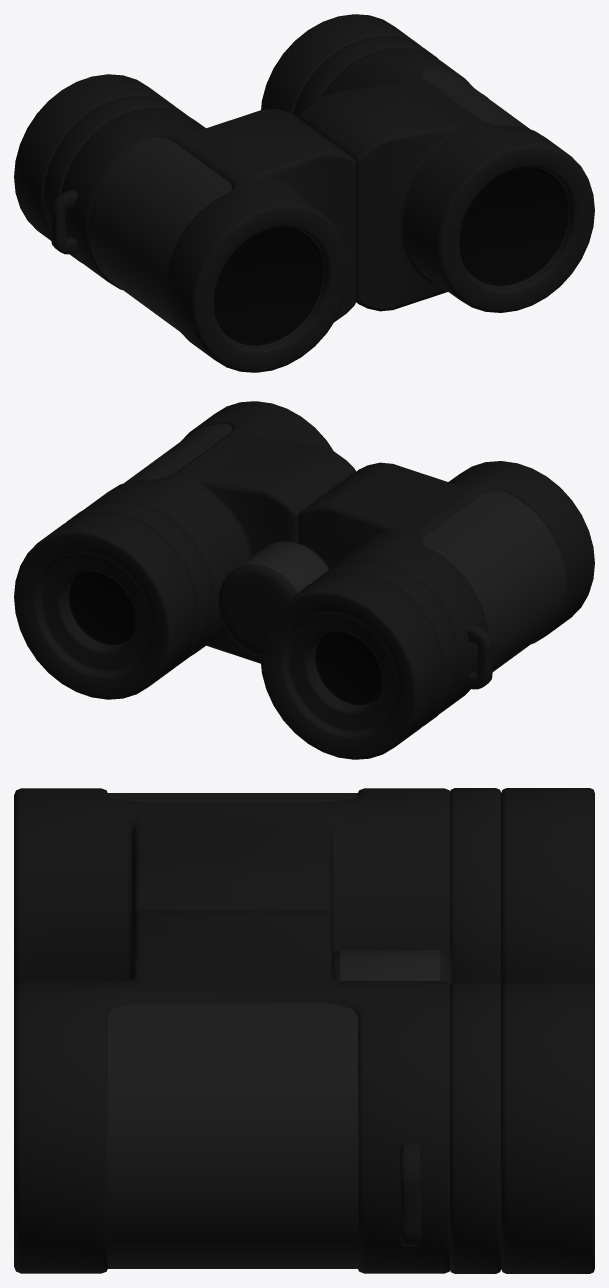
Rendered from binocular.obj.
3 renders of one model, top to bottom at view 1: azimuth 30°, elevation 25°; view 2: azimuth 150°, elevation 25°; view 3: azimuth 270°, elevation 25°, orthographic. The views are drawn at different scales.
Visible parts, largest first — view 1: Binoculars; view 2: Binoculars; view 3: Binoculars.
Boxes of the visible parts, x1=… form: Binoculars: x1=14, y1=14, x2=594, y2=372; Binoculars: x1=14, y1=401, x2=594, y2=759; Binoculars: x1=14, y1=788, x2=594, y2=1273.
Bounding box in the file's own units: 1.12 × 0.4305 × 0.8001.
